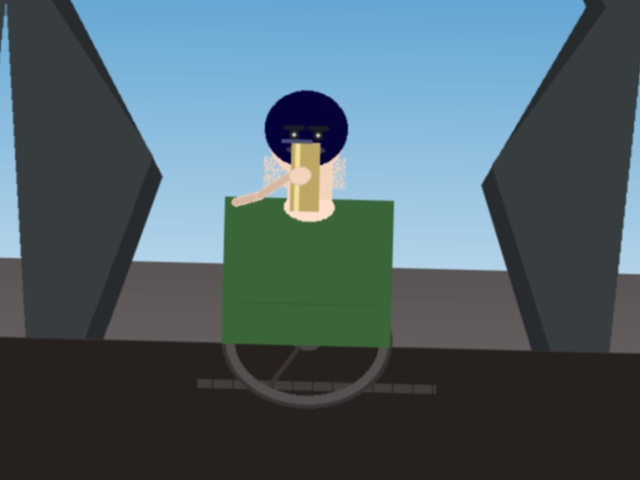drinking: (270, 130, 327, 221)
